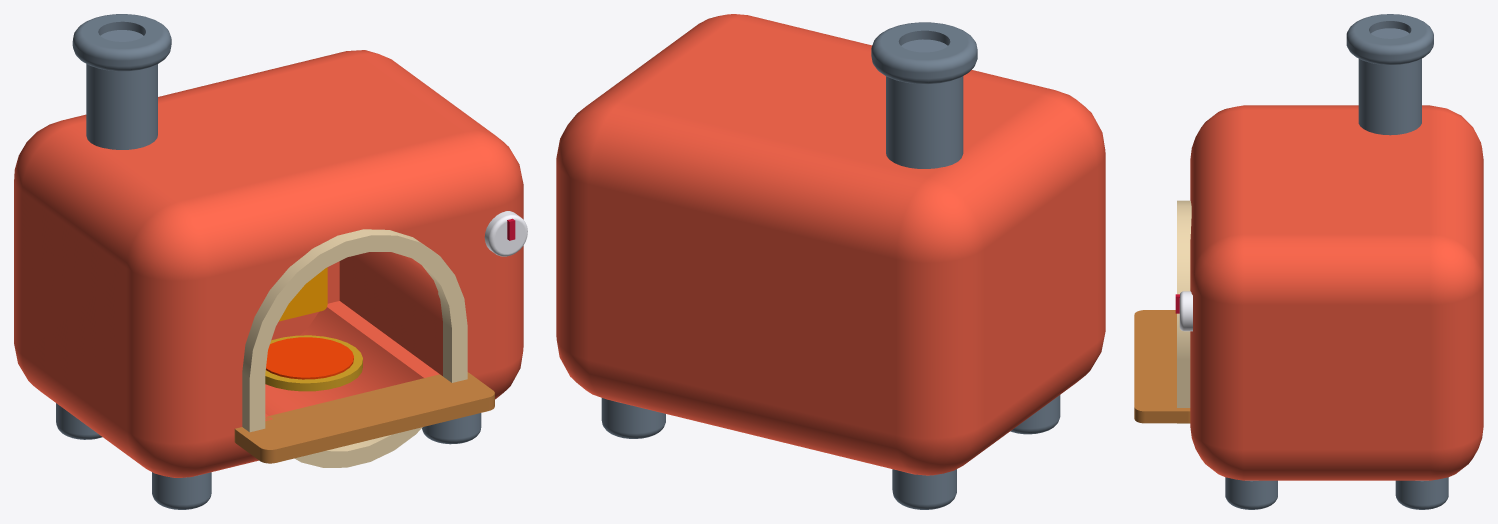
File: Oven.glb
The picture shows the model from 3 angles, left to right: view 1: azimuth 30°, elevation 25°; view 2: azimuth 150°, elevation 25°; view 3: azimuth 270°, elevation 25°; orthographic projection. The views are drawn at different scales.
Visible parts, largest first — view 1: ovenShell, counterTrim, tableWood, metalDark (×4), metalLight, pizzaSauce, pizzaCrust, awningWhite, ovenGlow; view 2: ovenShell, metalDark (×4), metalLight; view 3: ovenShell, metalDark (×3), tableWood, metalLight, counterTrim, awningWhite.
Boxes of the visible parts, bbox=[...] form: ovenShell: bbox=[14, 50, 523, 477]; counterTrim: bbox=[242, 229, 467, 467]; tableWood: bbox=[234, 372, 494, 463]; metalDark (×4): bbox=[56, 14, 481, 509]; metalLight: bbox=[86, 30, 157, 149]; pizzaSauce: bbox=[266, 337, 353, 379]; pizzaCrust: bbox=[265, 335, 362, 391]; awningWhite: bbox=[484, 211, 527, 256]; ovenGlow: bbox=[279, 267, 327, 321]; ovenShell: bbox=[556, 14, 1105, 475]; metalDark (×4): bbox=[601, 22, 1060, 509]; metalLight: bbox=[886, 39, 963, 168]; ovenShell: bbox=[1190, 105, 1483, 480]; metalDark (×3): bbox=[1225, 14, 1448, 509]; tableWood: bbox=[1134, 310, 1190, 423]; metalLight: bbox=[1358, 28, 1421, 135]; counterTrim: bbox=[1177, 200, 1191, 423]; awningWhite: bbox=[1179, 291, 1192, 331].
Size of the model in its own units: 1.5 by 1.5 by 1.31.
